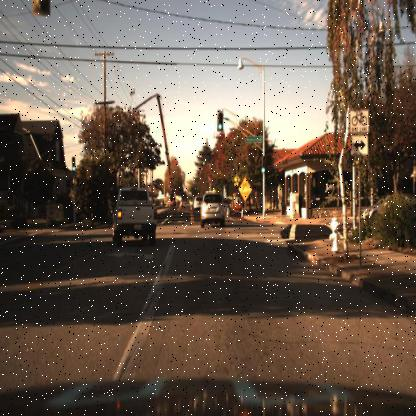car: (110, 180, 157, 248), (360, 192, 414, 228), (198, 192, 227, 228)
trafficLight-Green: (215, 108, 224, 135), (69, 155, 77, 178), (260, 156, 267, 177), (71, 153, 78, 173)
truck: (131, 93, 180, 210)
